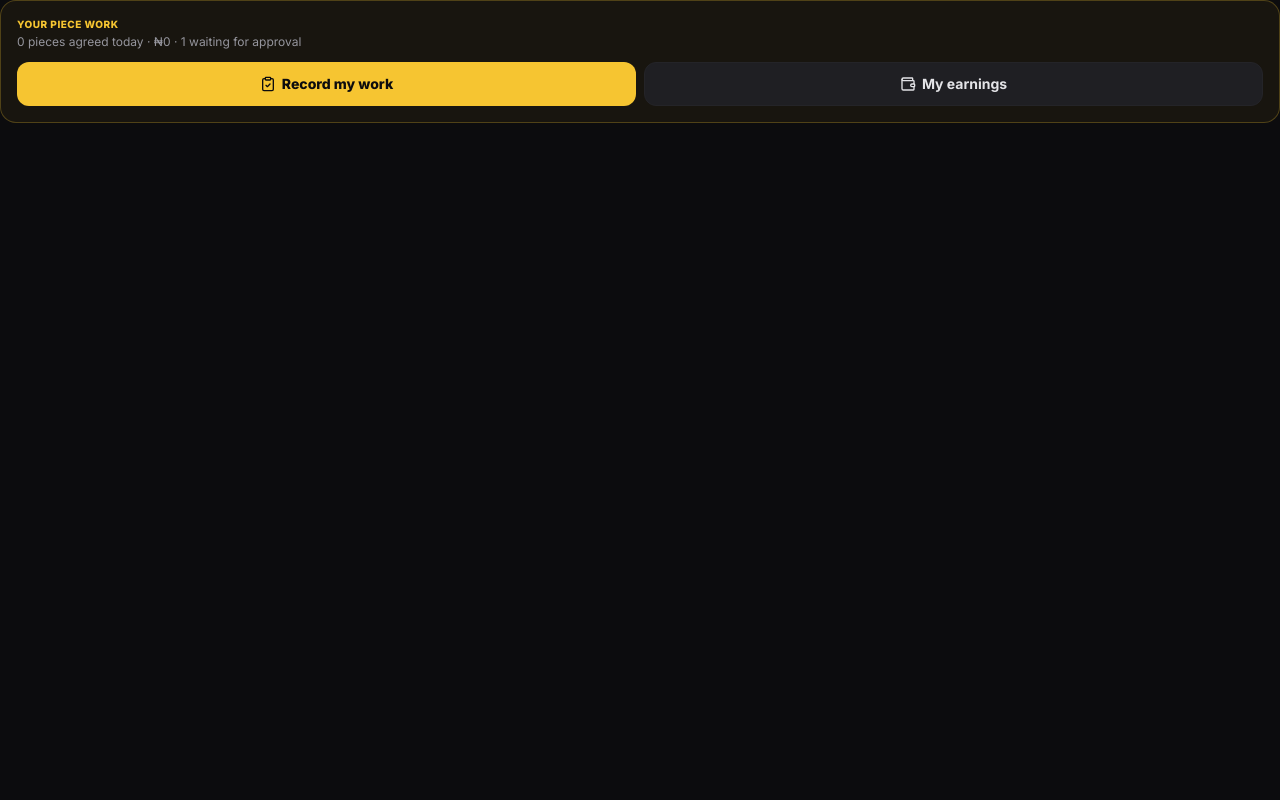
it: a per-piece worker's home screen › shows a worker their own pay, but never lets them approve or pay it
Expected: the text "0 pieces agreed today · ₦0 · 1 waiting for approval" is shown, [17,34,301,49]
Click the button "My earnings". click: (954, 84)
box: [644,62,1263,106]
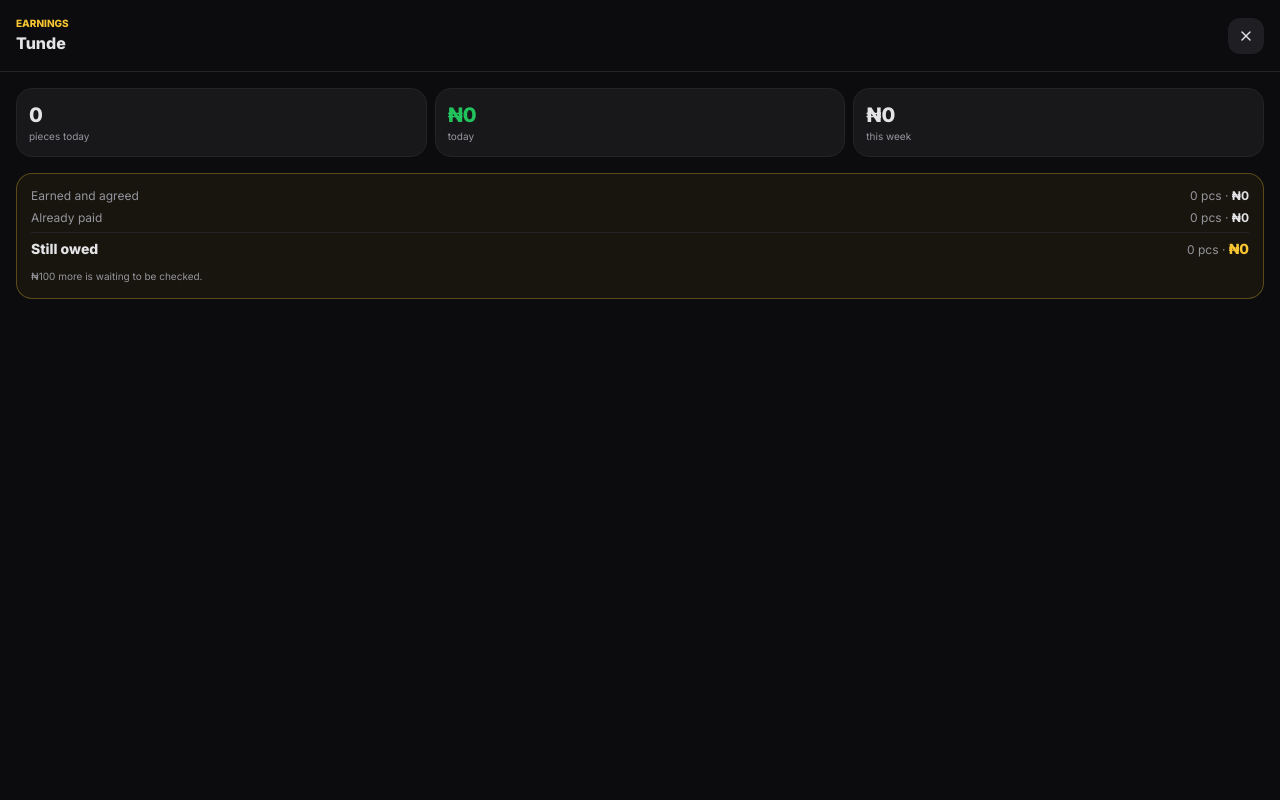
Expected: the text "₦100 more is waiting to be checked." is shown, [31,270,202,282]
